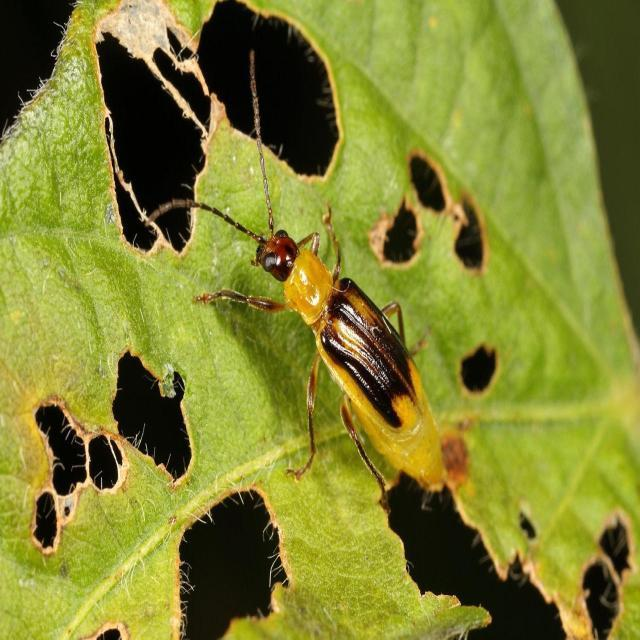trips: (158, 41, 513, 538)
